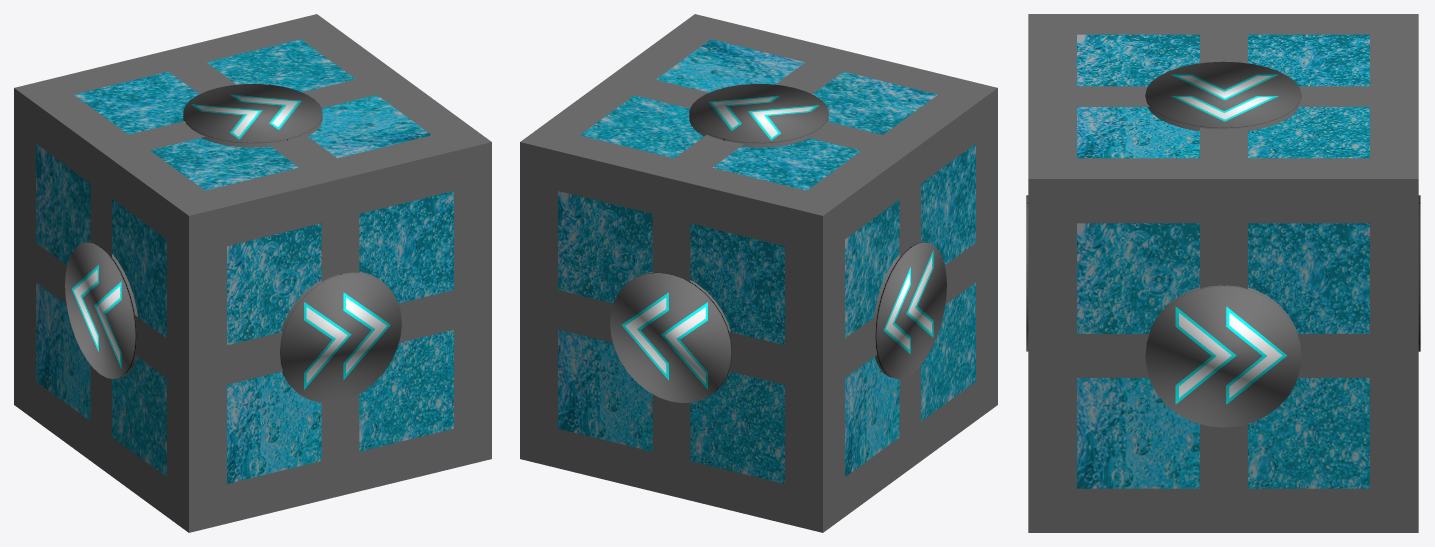
Rendered from SpeedBox.fbx.
The picture shows the model from 3 angles, left to right: view 1: azimuth 30°, elevation 25°; view 2: azimuth 150°, elevation 25°; view 3: azimuth 270°, elevation 25°; orthographic projection. The views are drawn at different scales.
Parts seen in each view (by area): view 1: 立方体.001, 立方体, 円柱.003, 円柱.001, 円柱.002; view 2: 立方体.001, 立方体, 円柱.003, 円柱.001, 円柱.002; view 3: 立方体.001, 立方体, 円柱.001, 円柱.002, 円柱.003.
Boxes of the visible parts, x1=… form: 立方体.001: x1=14, y1=14, x2=491, y2=532; 立方体: x1=36, y1=39, x2=453, y2=483; 円柱.003: x1=280, y1=272, x2=401, y2=403; 円柱.001: x1=65, y1=241, x2=137, y2=379; 円柱.002: x1=183, y1=84, x2=322, y2=147; 立方体.001: x1=520, y1=14, x2=997, y2=532; 立方体: x1=558, y1=39, x2=975, y2=483; 円柱.003: x1=610, y1=272, x2=731, y2=403; 円柱.001: x1=874, y1=241, x2=946, y2=379; 円柱.002: x1=689, y1=84, x2=828, y2=147; 立方体.001: x1=1028, y1=14, x2=1418, y2=532; 立方体: x1=1077, y1=34, x2=1369, y2=488; 円柱.001: x1=1145, y1=285, x2=1301, y2=427; 円柱.002: x1=1145, y1=61, x2=1301, y2=131; 円柱.003: x1=1026, y1=195, x2=1420, y2=351.
Size of the model in its own units: 2.02 by 2.02 by 2.02.
5 materials, 4 textured.
